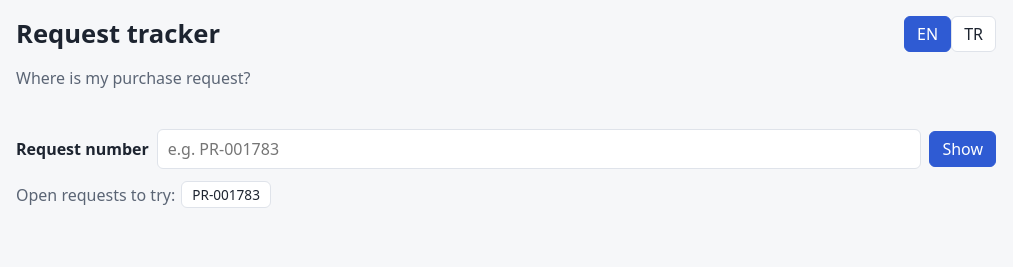
Scenario: RequestTracker › ShowsNotFound_ForUnknownRequest
Type "PR-999999" into the field labelled "Request number". click: (539,149)
box: [157,129,921,169]
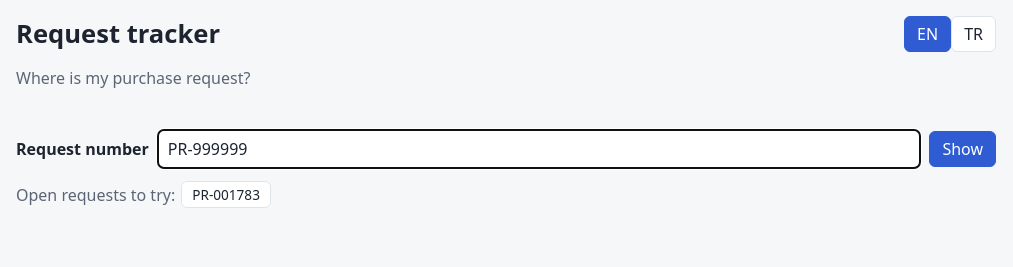
Click the button "Show". click: (963,149)
box: [929,131,996,167]
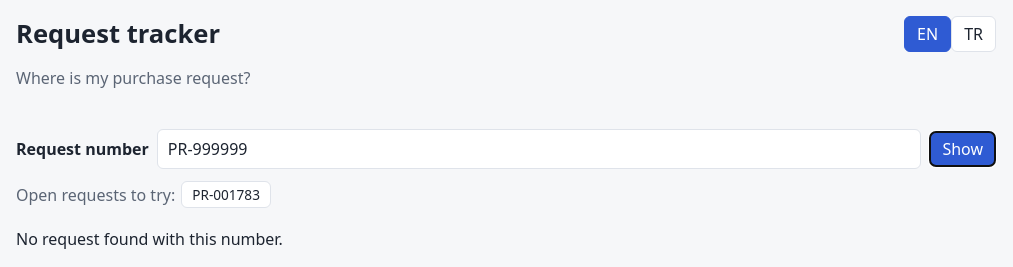
Check: the text "No request found with this number." is shown, box [16,228,283,250]
